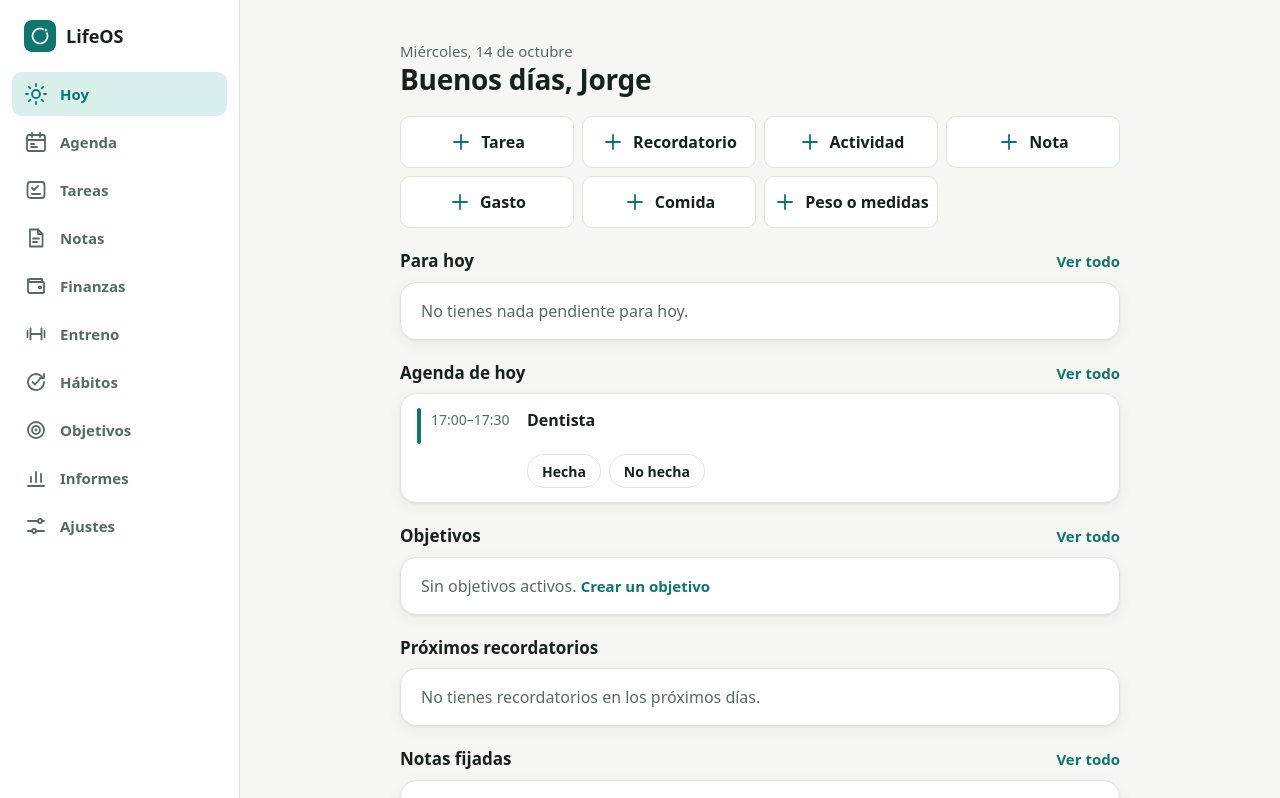
it: agenda en Hoy › muestra las actividades de hoy y abre la agenda al pulsar una
Click the text "Dentista".
click(561, 420)  # box top-left (527, 408), bottom-right (595, 432)
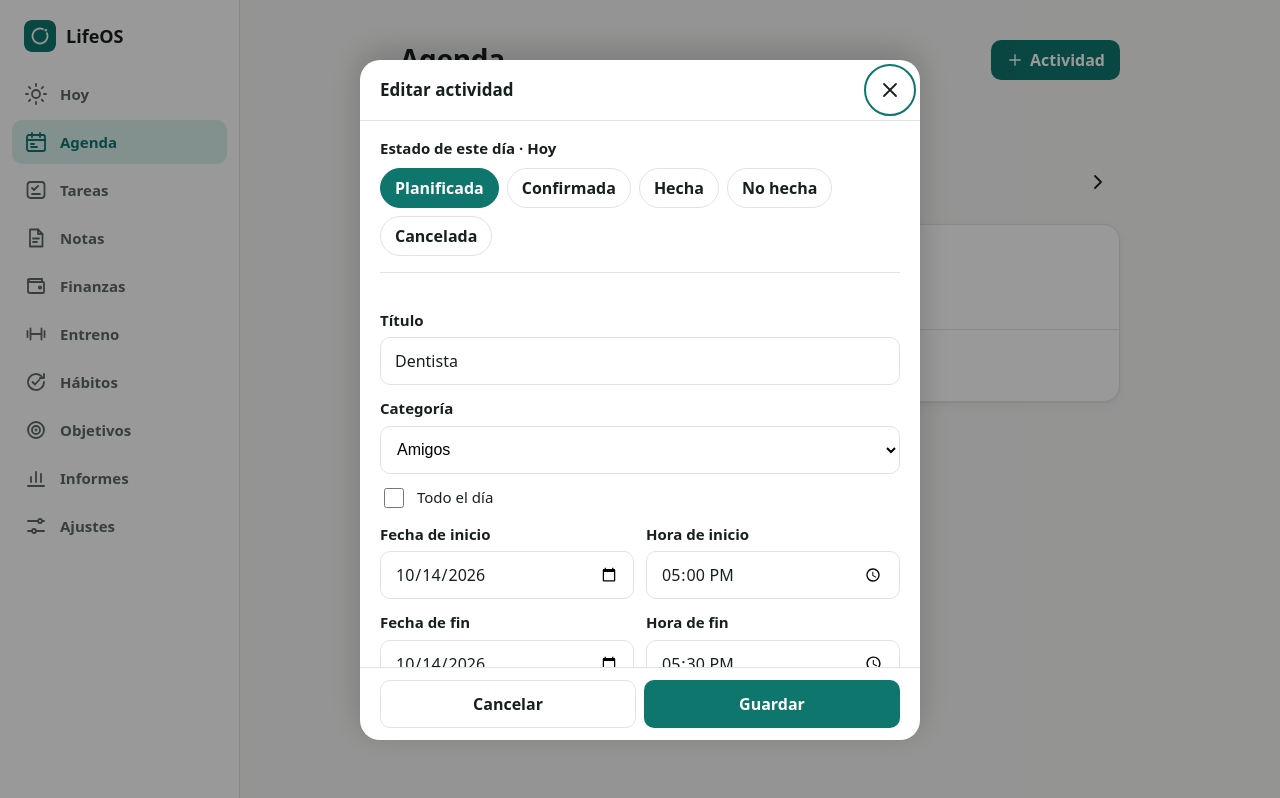
Check: the heading "Editar actividad" is shown, box top-left (380, 77), bottom-right (514, 103)
